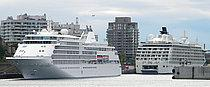Ship: (4, 22, 126, 82), (133, 24, 210, 77)
